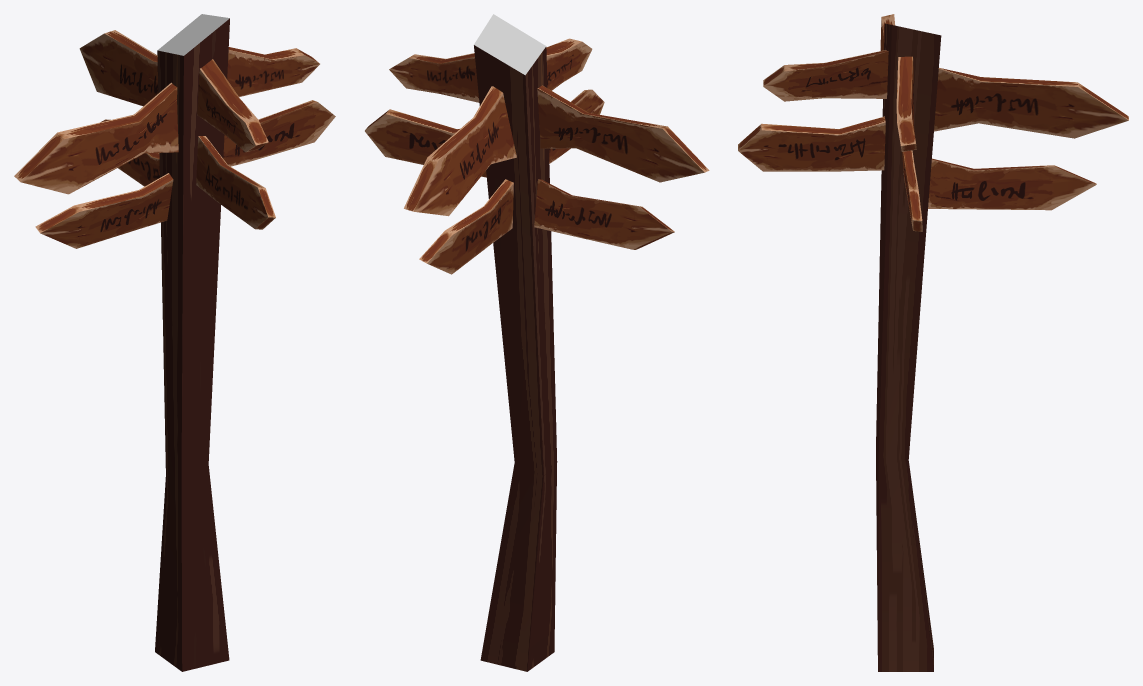
The model's file is SM_PROP_signpost_03.fbx.
3 renders of one model, left to right at view 1: azimuth 30°, elevation 25°; view 2: azimuth 150°, elevation 25°; view 3: azimuth 270°, elevation 25°, orthographic. The views are drawn at different scales.
Parts seen in each view (by area): view 1: SM_PROP_signpost_03; view 2: SM_PROP_signpost_03; view 3: SM_PROP_signpost_03.
Part boxes in pixels (x1,y1,x2,y2): SM_PROP_signpost_03: (14, 14, 335, 671); SM_PROP_signpost_03: (365, 14, 709, 671); SM_PROP_signpost_03: (738, 14, 1128, 671).
Bounding box in the file's own units: 239 × 438 × 239.
